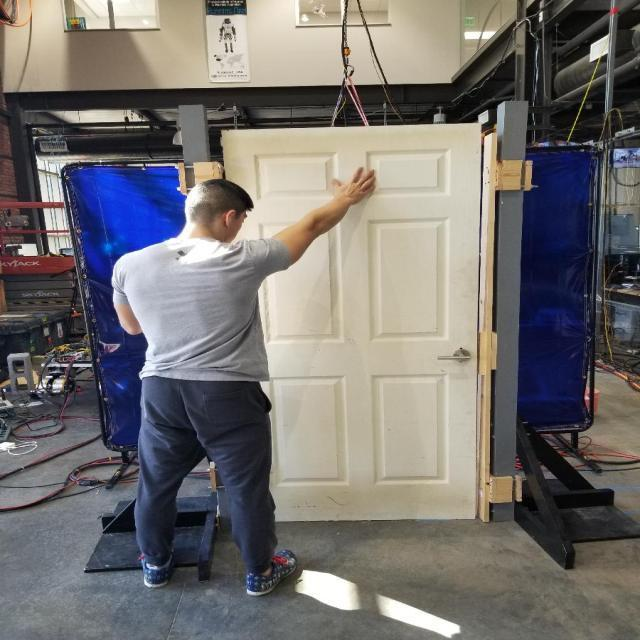door: (215, 121, 488, 534), (433, 343, 475, 367)
